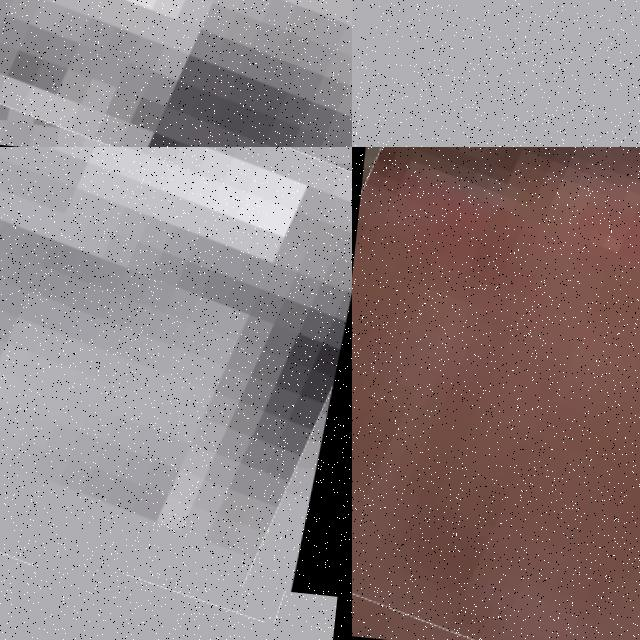0: (0, 147, 352, 596), (0, 0, 352, 147)
drone: (352, 147, 640, 640)
